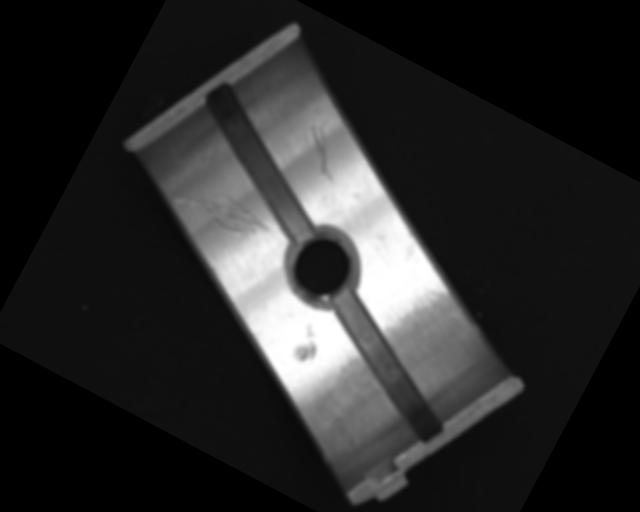bruise: (289, 321, 328, 367)
gap: (167, 80, 353, 246), (298, 286, 478, 446)
hole: (271, 218, 372, 317)
nick: (171, 173, 275, 250), (291, 122, 351, 183)
